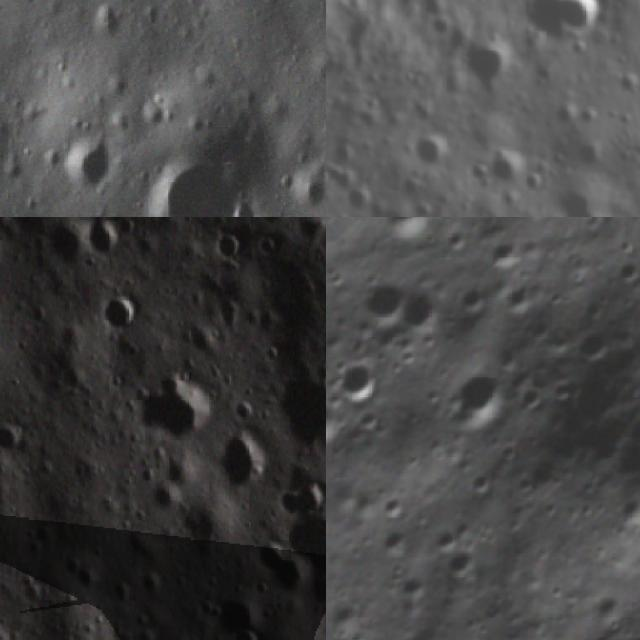crater: (436, 354, 521, 440), (343, 264, 422, 340), (152, 155, 239, 217), (262, 365, 326, 445), (326, 347, 395, 419), (521, 0, 610, 54), (136, 372, 203, 443), (454, 33, 520, 100), (209, 431, 269, 499), (56, 133, 116, 200), (391, 277, 453, 340), (276, 512, 326, 590), (474, 139, 540, 193), (432, 535, 488, 592), (448, 274, 503, 332), (487, 271, 544, 326), (373, 514, 429, 569), (400, 126, 458, 178), (564, 316, 616, 371), (368, 217, 447, 253), (547, 177, 618, 217), (484, 232, 536, 285), (261, 480, 323, 521), (326, 382, 358, 461), (388, 560, 437, 610), (103, 287, 148, 340), (80, 220, 130, 264), (289, 168, 326, 217), (422, 8, 466, 48), (86, 5, 123, 45), (206, 230, 246, 265), (292, 217, 323, 259), (367, 199, 424, 217), (221, 619, 269, 640), (0, 418, 25, 457), (254, 234, 284, 262), (314, 318, 326, 371), (256, 217, 285, 228)
